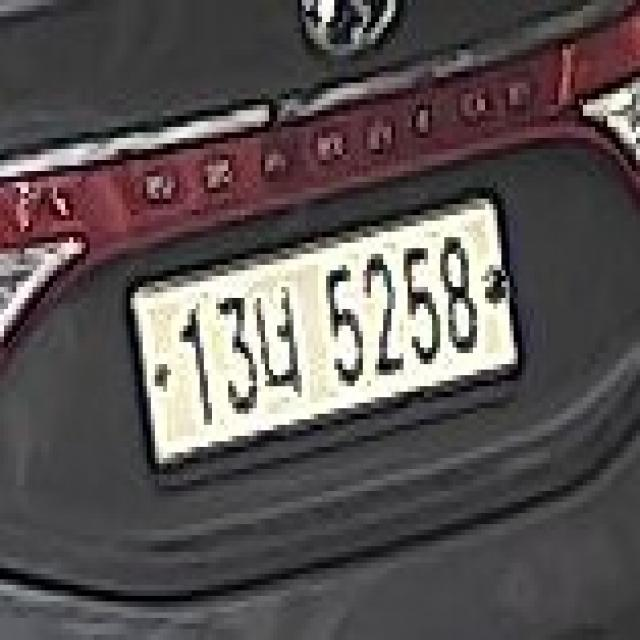1: (175, 298, 220, 441)
2: (362, 242, 403, 392)
3: (216, 287, 261, 430)
5: (322, 254, 363, 408), (404, 242, 440, 370)
8: (441, 221, 494, 364)
license_plate: (118, 182, 534, 508)
neo: (252, 282, 302, 431)
